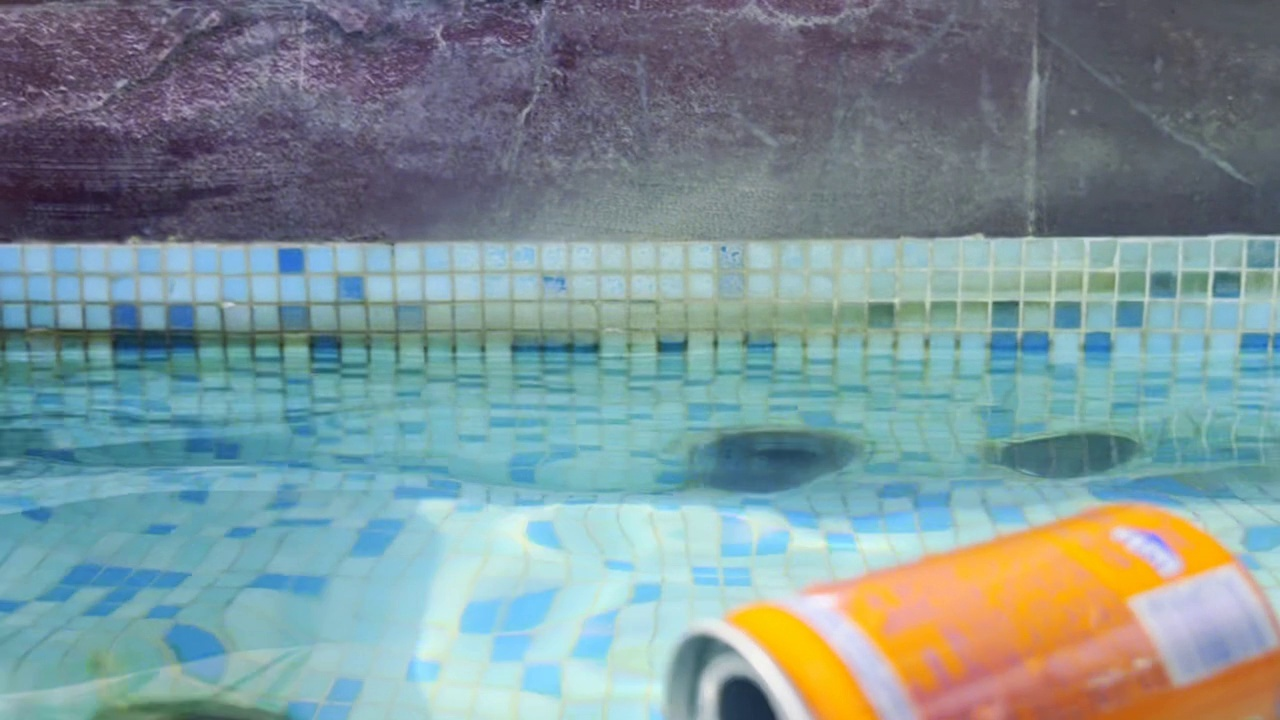debris: (656, 479, 1280, 720)
